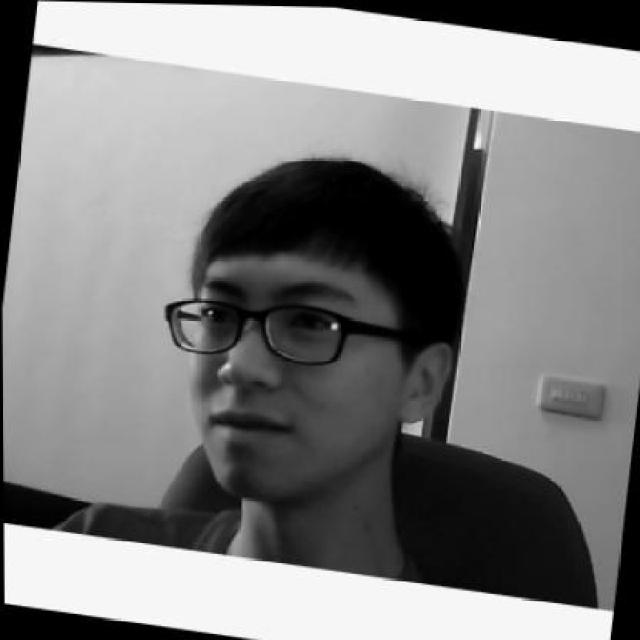attentif: (140, 133, 472, 522)
